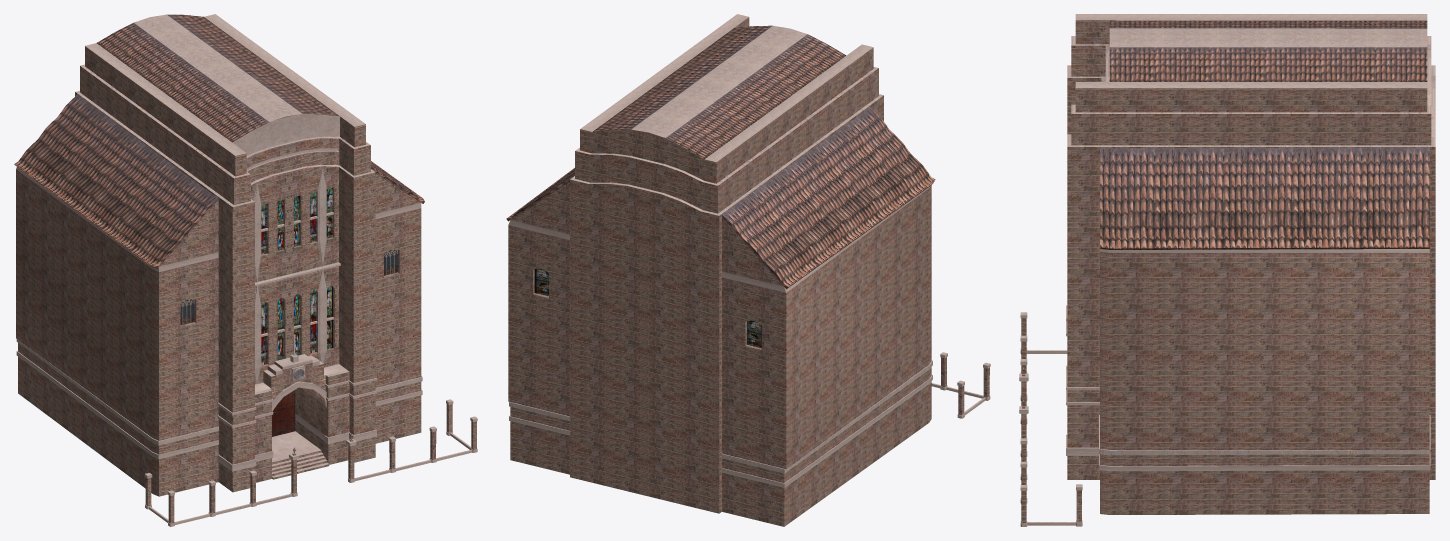
Rendered from church.FBX.
3 renders of one model, left to right at view 1: azimuth 30°, elevation 25°; view 2: azimuth 150°, elevation 25°; view 3: azimuth 270°, elevation 25°, orthographic. The views are drawn at different scales.
Visible parts, largest first — view 1: Object01; view 2: Object01; view 3: Object01.
Boxes of the visible parts, left/top/right/bottom form: Object01: left=14, top=14, right=477, bottom=526; Object01: left=506, top=14, right=990, bottom=526; Object01: left=1019, top=14, right=1435, bottom=526.
Bounding box in the file's own units: 108 × 116 × 109.
